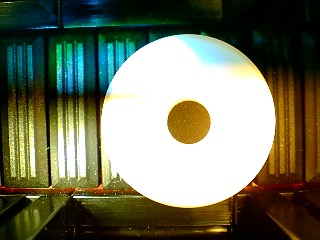BOHO: (99, 34, 276, 207)
